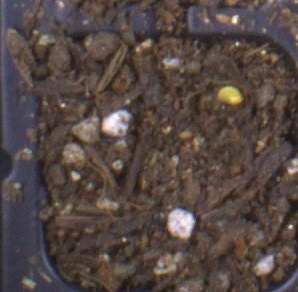chilli seed: (216, 85, 244, 105)
